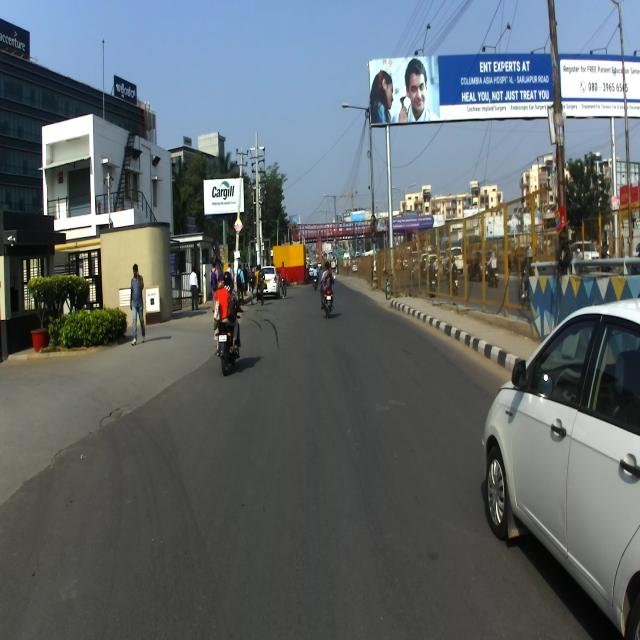car ahead at: (487, 301, 640, 640)
motorcycle ahead at: (207, 314, 246, 384)
person ahead at: (126, 261, 151, 343)
